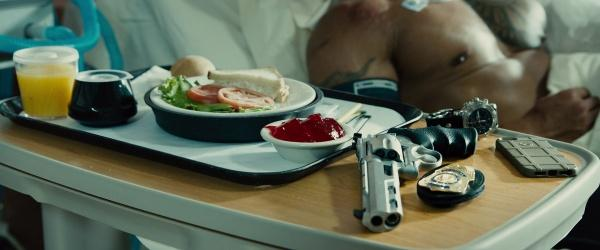Gun: (353, 124, 477, 232)
